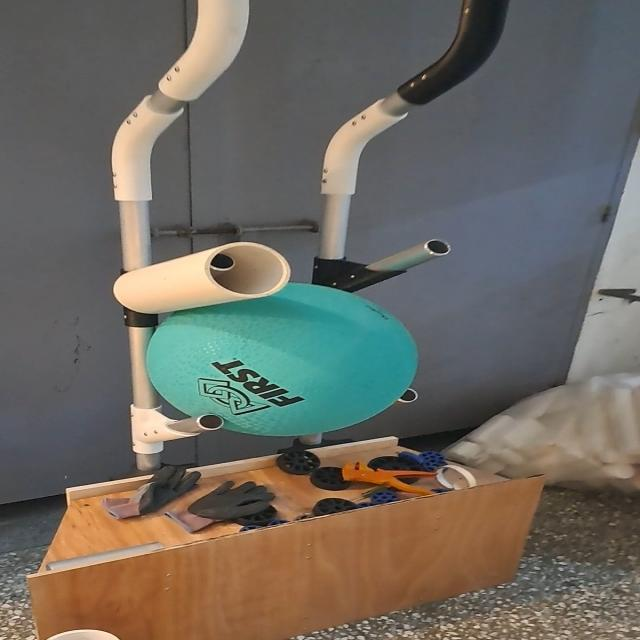ALGAE: (143, 278, 418, 438)
CORAL: (104, 240, 290, 314)
